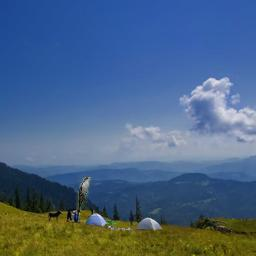Cuckoo: (76, 177, 91, 218)
